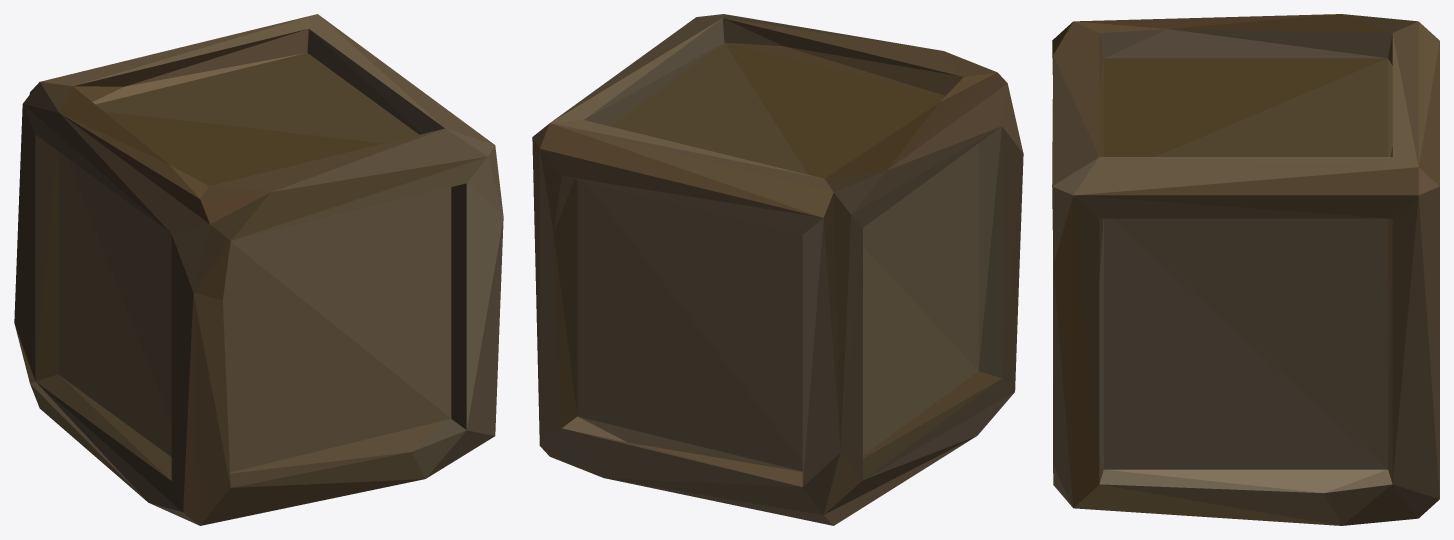
The model's file is Prop-CrateA.fbx.
3 views of the same model, side by side, from view 1: azimuth 30°, elevation 25°; view 2: azimuth 150°, elevation 25°; view 3: azimuth 270°, elevation 25° (orthographic). The views are drawn at different scales.
Parts seen in each view (by area): view 1: Prop-CrateA; view 2: Prop-CrateA; view 3: Prop-CrateA.
Part boxes in pixels (box(x1,y1,x2,y2)): Prop-CrateA: box(14, 14, 503, 525); Prop-CrateA: box(532, 14, 1023, 525); Prop-CrateA: box(1052, 14, 1439, 525).
Bounding box in the file's own units: 100 × 100 × 100.
